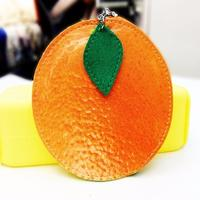orange: (25, 13, 180, 185)
